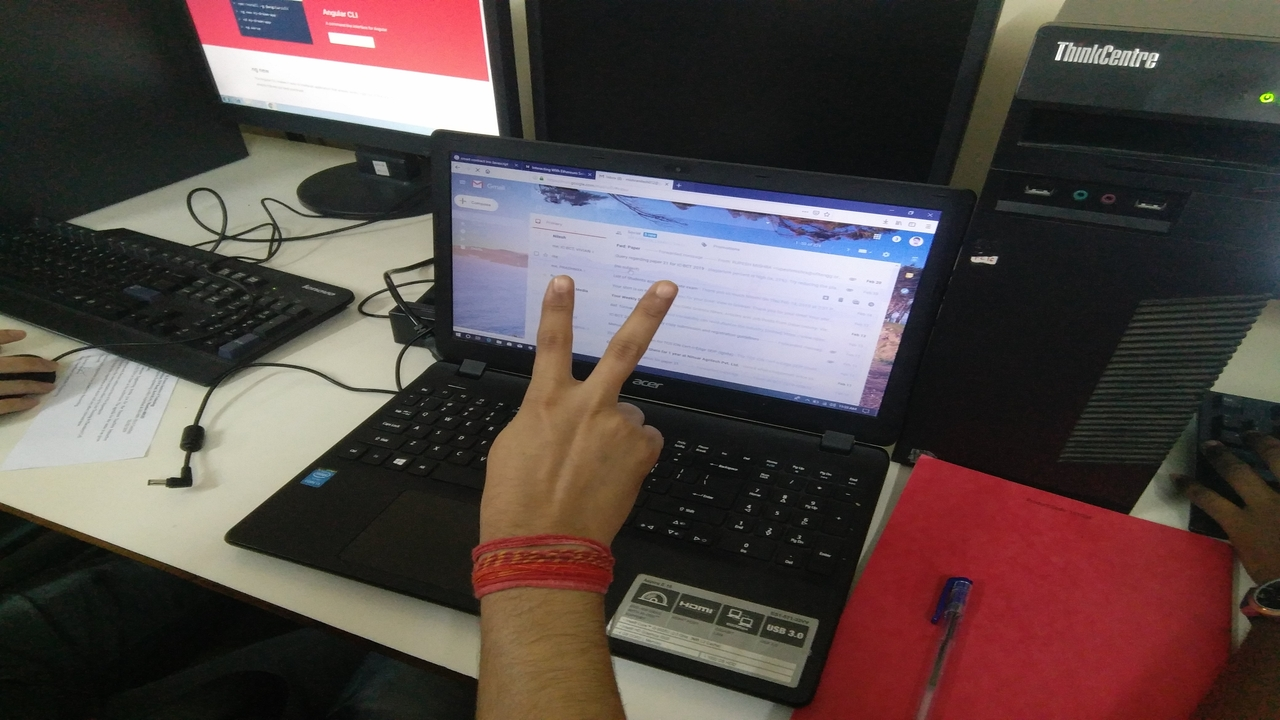fingertip: (628, 270, 684, 314), (534, 266, 580, 300)
